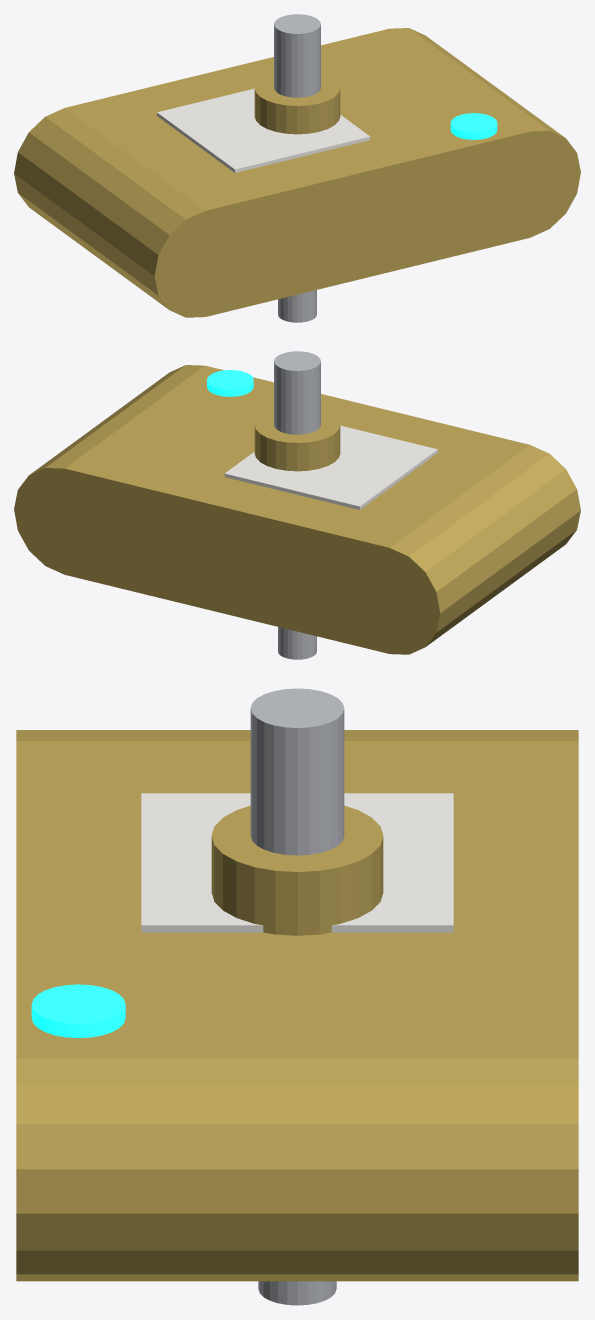
Rendered from herdtag.glb.
The picture shows the model from 3 angles, top to bottom: view 1: azimuth 30°, elevation 25°; view 2: azimuth 150°, elevation 25°; view 3: azimuth 270°, elevation 25°; orthographic projection. The views are drawn at different scales.
Visible parts, largest first — view 1: TPU_Overmold, TPU_Edge_Bevel_L, Label_Area, TPU_Edge_Bevel_R, TPU_Sheath, Attachment_Pin, Status_LED, Piercing_Pin; view 2: TPU_Overmold, TPU_Edge_Bevel_L, TPU_Edge_Bevel_R, Label_Area, TPU_Sheath, Attachment_Pin, Status_LED, Piercing_Pin; view 3: TPU_Overmold, TPU_Edge_Bevel_R, Label_Area, TPU_Sheath, Attachment_Pin, TPU_Edge_Bevel_L, Status_LED, Piercing_Pin.
Part boxes in pixels (<box>): TPU_Overmold: <box>65,28,530,316</box>; TPU_Edge_Bevel_L: <box>14,108,255,317</box>; Label_Area: <box>157,88,370,172</box>; TPU_Edge_Bevel_R: <box>390,28,580,237</box>; TPU_Sheath: <box>254,73,340,134</box>; Attachment_Pin: <box>274,14,320,97</box>; Status_LED: <box>450,113,497,139</box>; Piercing_Pin: <box>278,290,316,322</box>; TPU_Overmold: <box>64,365,529,653</box>; TPU_Edge_Bevel_L: <box>339,445,580,654</box>; TPU_Edge_Bevel_R: <box>14,365,204,575</box>; Label_Area: <box>224,425,437,509</box>; TPU_Sheath: <box>254,410,340,471</box>; Attachment_Pin: <box>274,351,320,434</box>; Status_LED: <box>207,370,253,396</box>; Piercing_Pin: <box>278,627,316,659</box>; TPU_Overmold: <box>16,741,578,1057</box>; TPU_Edge_Bevel_R: <box>16,1058,578,1281</box>; Label_Area: <box>141,793,453,932</box>; TPU_Sheath: <box>211,805,383,935</box>; Attachment_Pin: <box>250,688,344,855</box>; TPU_Edge_Bevel_L: <box>16,730,578,740</box>; Status_LED: <box>31,984,125,1038</box>; Piercing_Pin: <box>258,1281,336,1305</box>.
Size of the model in its own units: 0.063 by 0.041 by 0.036.
